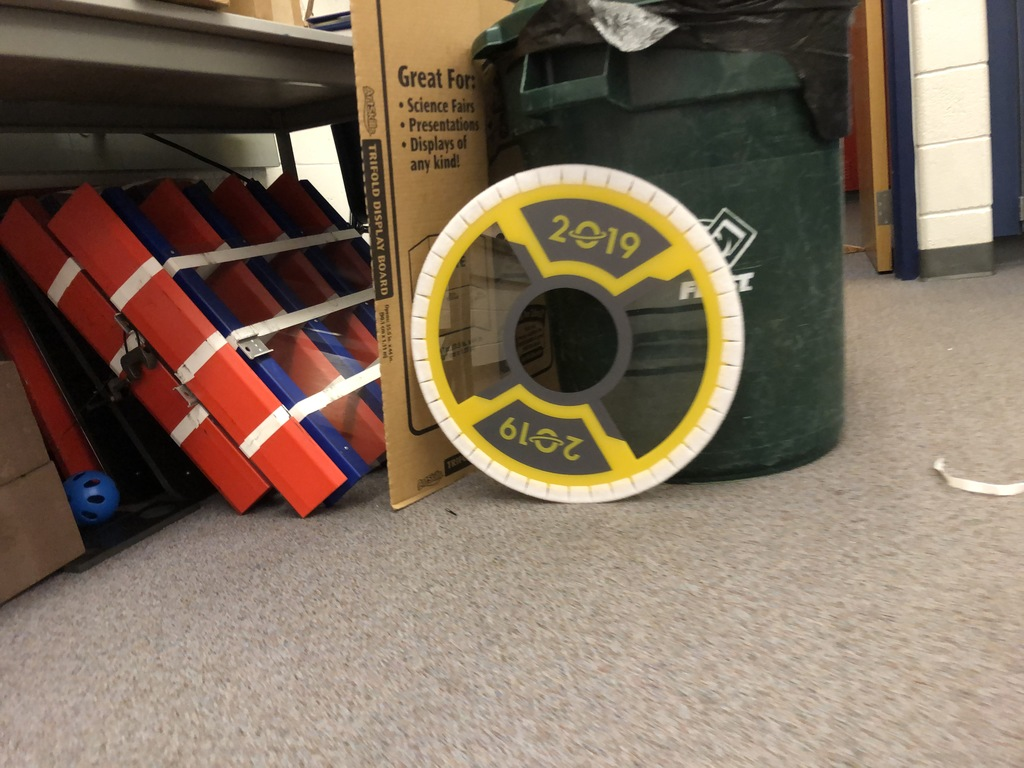hatch_panel: (407, 148, 754, 521)
